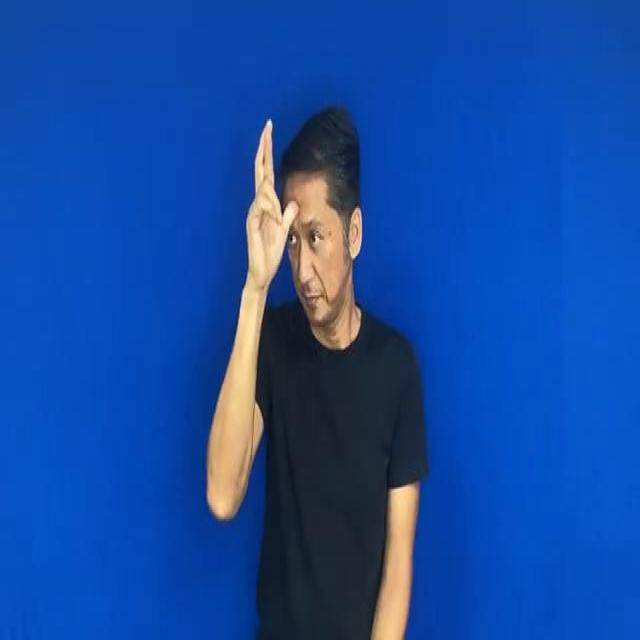chicken: (237, 105, 300, 289)
